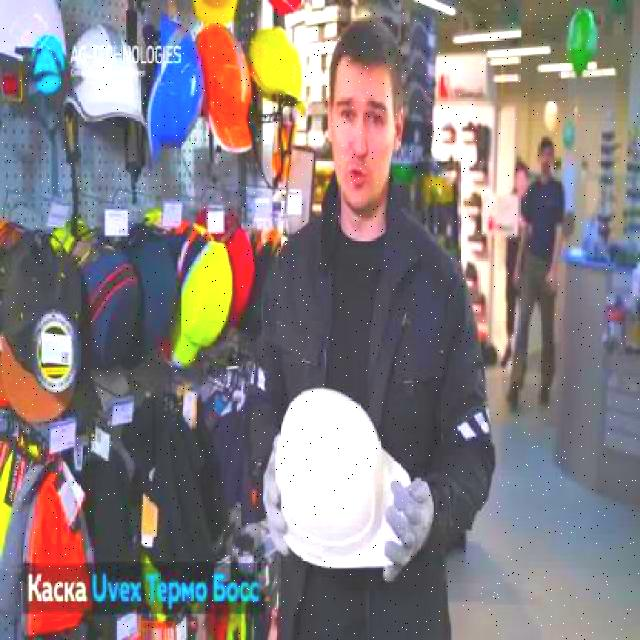Gloves: (382, 474, 436, 580), (263, 434, 288, 560)
Helmet: (273, 384, 413, 572), (146, 15, 206, 170), (65, 21, 148, 130), (194, 21, 254, 156), (0, 0, 77, 80), (248, 26, 308, 120)
